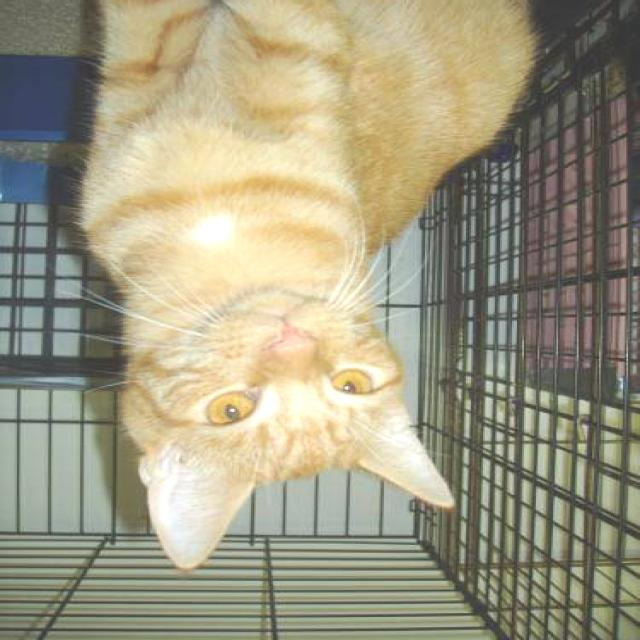Kucing: (37, 0, 554, 616)
